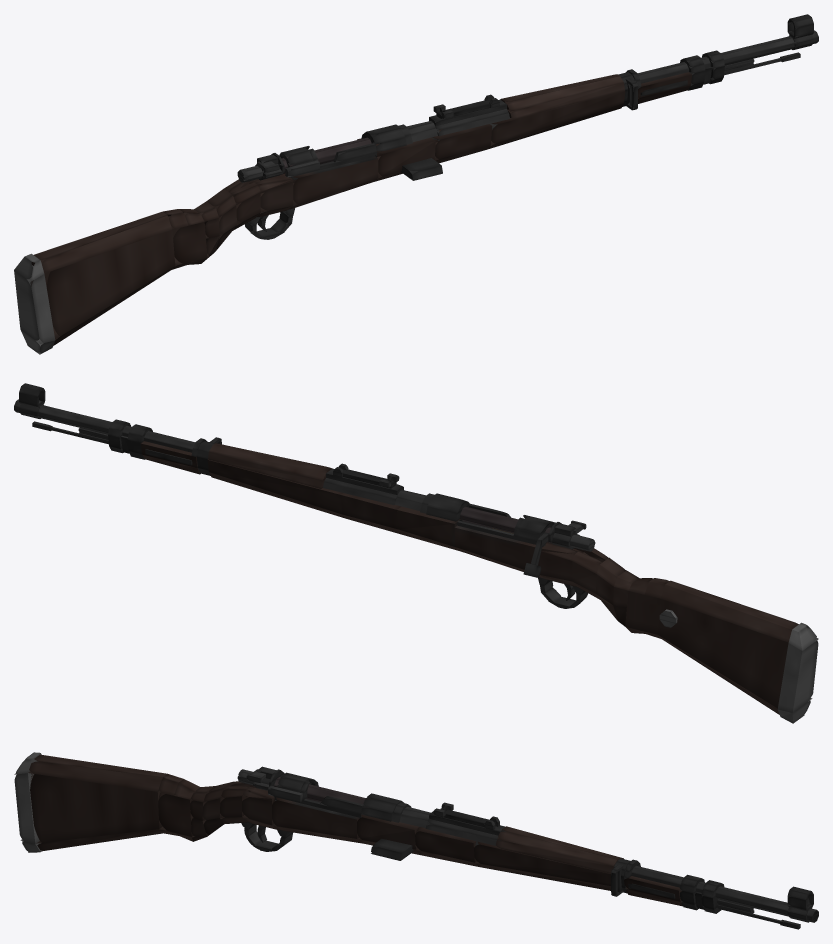
Rendered from kar98k.obj.
3 views of the same model, one above another, from view 1: azimuth 30°, elevation 25°; view 2: azimuth 150°, elevation 25°; view 3: azimuth 330°, elevation 25° (orthographic).
Parts seen in each view (by area): view 1: gunModel0, gunModel1, gunModel15, gunModel12, gunModel3, gunModel35, gunModel13, gunModel14, gunModel6, gunModel61, gunModel34, gunModel20 (+1 smaller); view 2: gunModel0, gunModel1, gunModel15, gunModel3, gunModel12, gunModel35, gunModel13, gunModel14, gunModel6, gunModel61, gunModel34, gunModel20 (+1 smaller); view 3: gunModel0, gunModel1, gunModel15, gunModel12, gunModel35, gunModel14, gunModel13, gunModel6, gunModel61, gunModel3, gunModel34, gunModel2 (+18 smaller).
Part boxes in pixels (box(x1,y1,x2,y2)): gunModel0: box(30, 230, 175, 339); gunModel1: box(31, 211, 172, 273); gunModel15: box(491, 90, 625, 145); gunModel12: box(284, 156, 378, 205); gunModel3: box(14, 265, 54, 343); gunModel35: box(500, 74, 623, 111); gunModel13: box(357, 137, 435, 177); gunModel14: box(432, 124, 492, 160); gunModel6: box(168, 212, 207, 265); gunModel61: box(632, 30, 818, 81); gunModel34: box(505, 82, 624, 118); gunModel20: box(249, 179, 293, 212); gunModel0: box(657, 599, 788, 708); gunModel1: box(660, 580, 798, 642); gunModel15: box(207, 459, 342, 514); gunModel3: box(778, 640, 818, 712); gunModel12: box(454, 521, 548, 569); gunModel35: box(209, 443, 332, 480); gunModel13: box(397, 506, 462, 546); gunModel14: box(340, 493, 401, 529); gunModel6: box(625, 591, 660, 634); gunModel61: box(14, 399, 194, 449); gunModel34: box(208, 451, 325, 488); gunModel20: box(539, 548, 583, 581); gunModel0: box(30, 773, 162, 843); gunModel1: box(28, 754, 167, 791); gunModel15: box(474, 841, 610, 885); gunModel12: box(272, 797, 359, 838); gunModel35: box(497, 826, 623, 865); gunModel14: box(415, 827, 476, 862); gunModel13: box(357, 814, 418, 849); gunModel6: box(158, 792, 192, 836); gunModel61: box(631, 865, 818, 916); gunModel3: box(14, 773, 39, 843); gunModel34: box(495, 839, 614, 873); gunModel2: box(37, 829, 163, 851).
Size of the model in its own units: 34.45 by 6.03 by 3.19.
